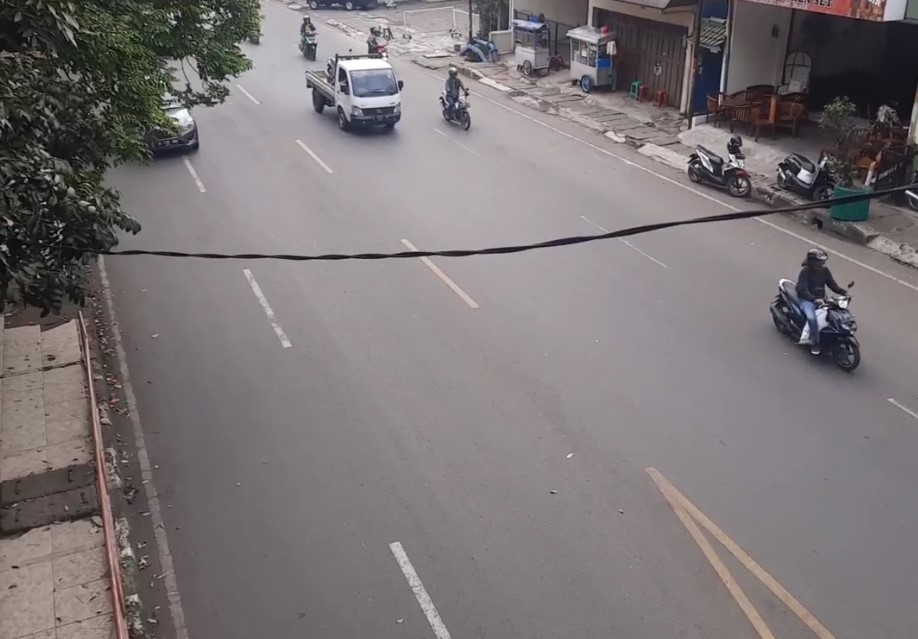mobil: (345, 67, 405, 132)
motor: (769, 247, 870, 378), (438, 67, 473, 130), (294, 14, 323, 60)
